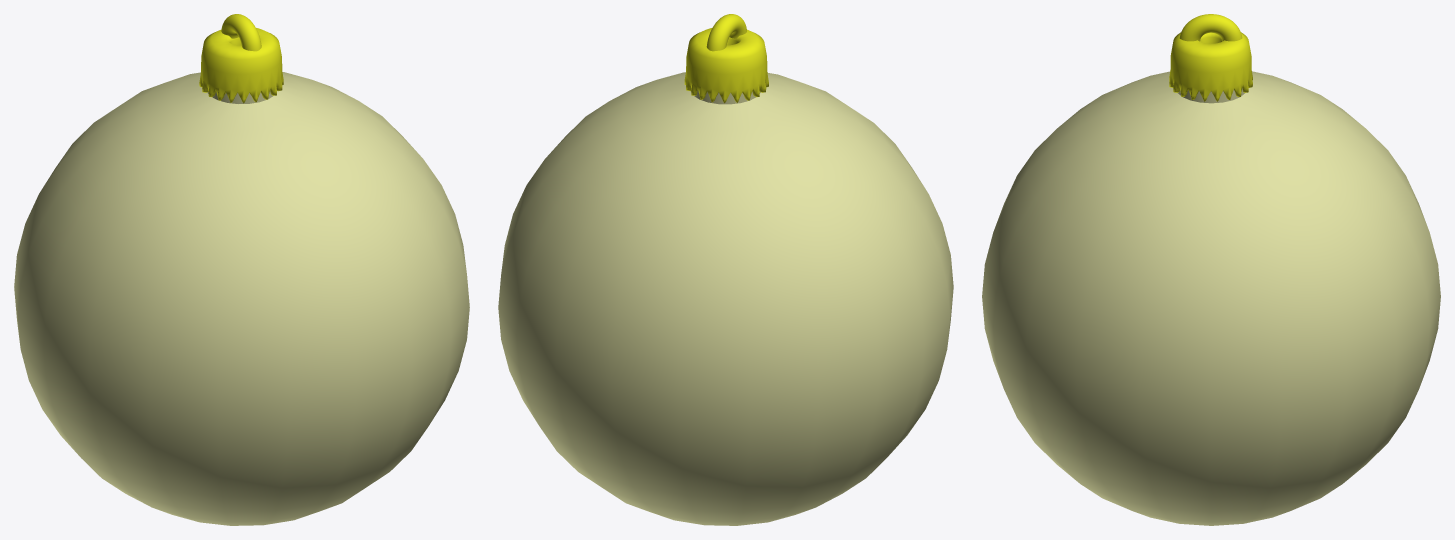
File: foco5.obj
3 views of the same model, side by side, from view 1: azimuth 30°, elevation 25°; view 2: azimuth 150°, elevation 25°; view 3: azimuth 270°, elevation 25° (orthographic).
Parts seen in each view (by area): view 1: Foco, Foco.001; view 2: Foco, Foco.001; view 3: Foco, Foco.001.
Part boxes in pixels (left/top/right/bottom): Foco: left=14, top=72, right=469, bottom=525; Foco.001: left=199, top=14, right=283, bottom=103; Foco: left=498, top=72, right=953, bottom=525; Foco.001: left=684, top=14, right=768, bottom=103; Foco: left=982, top=71, right=1440, bottom=525; Foco.001: left=1169, top=14, right=1252, bottom=101.
Size of the model in its own units: 13.51 by 15.9 by 13.51.
2 materials, 2 textured.
